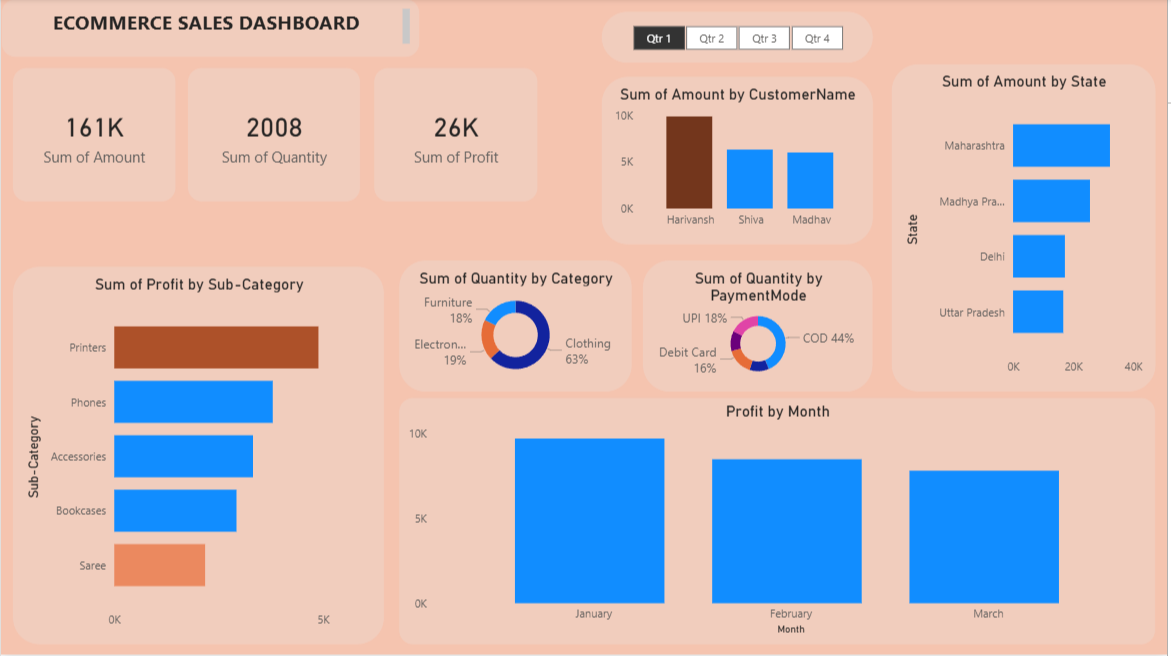

This screenshot's page, from the dashboard's own definition file:
{"tool":"powerbi","page":{"name":"Page 1","canvas":[1280,720],"ordinal":0},"visuals":[{"type":"textbox","box":[0,0,459.7,64.5],"z":0},{"type":"columnChart","title":"Profit by Month","fields":{"Category":["Orders.Order Date.Variation.Date Hierarchy.Month"],"Y":["Sum(Details.Profit)"]},"box":[436.4,437.7,831.6,271.7],"z":1000},{"type":"barChart","fields":{"Category":["Details.Sub-Category"],"Y":["Sum(Details.Profit)"]},"box":[12.3,293.7,408.9,415.8],"z":2000},{"type":"donutChart","fields":{"Category":["Details.Category"],"Y":["Sum(Details.Quantity)"]},"box":[436.4,286.8,256.6,145.5],"z":3000},{"type":"donutChart","fields":{"Y":["Sum(Details.Quantity)"],"Series":["Details.PaymentMode"]},"box":[703.9,286.8,253.9,145.5],"z":4000},{"type":"card","fields":{"Values":["Sum(Details.Amount)"]},"box":[12.3,75.5,179.8,148.2],"z":5000},{"type":"card","fields":{"Values":["Sum(Details.Quantity)"]},"box":[204.5,75.5,190.7,148.2],"z":6000},{"type":"card","fields":{"Values":["Sum(Details.Profit)"]},"box":[408.9,75.5,181.1,148.2],"z":7000},{"type":"barChart","fields":{"Category":["Orders.State"],"Y":["Sum(Details.Amount)"]},"box":[977,71.4,290.9,360.9],"z":8000},{"type":"columnChart","fields":{"Category":["Orders.CustomerName"],"Y":["Sum(Details.Amount)"]},"box":[658.7,85.1,299.1,185.2],"z":9000},{"type":"slicer","fields":{"Values":["Orders.Order Date.Variation.Date Hierarchy.Quarter"]},"box":[658.7,13.7,299.1,57.6],"z":9001}]}

Visuals, with their boxes in screenshot pixels (x1, y1, x2, y2), scaled from the page's 1280x720 canvas onto the 1171x656 screenshot:
textbox: 0/0/421/59
"Profit by Month" columnChart: 399/399/1160/646
barChart - Details.Sub-Category x Sum(Details.Profit): 11/268/385/646
donutChart - Details.Category x Sum(Details.Quantity): 399/261/634/394
donutChart - Sum(Details.Quantity) x Details.PaymentMode: 644/261/876/394
card - Sum(Details.Amount): 11/69/176/204
card - Sum(Details.Quantity): 187/69/362/204
card - Sum(Details.Profit): 374/69/540/204
barChart - Orders.State x Sum(Details.Amount): 894/65/1160/394
columnChart - Orders.CustomerName x Sum(Details.Amount): 603/78/876/246
slicer - Orders.Order Date.Variation.Date Hierarchy.Quarter: 603/12/876/65
